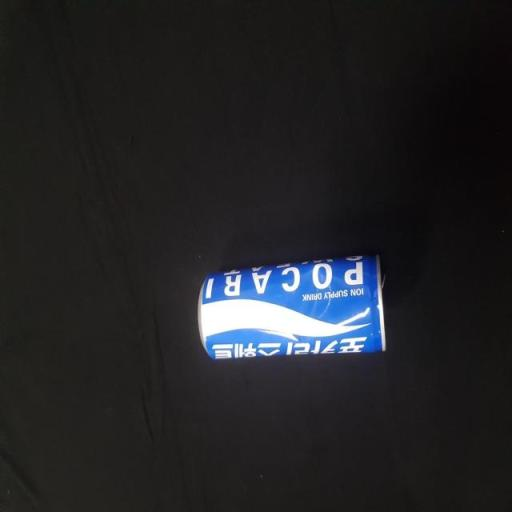metal: (169, 219, 402, 398)
